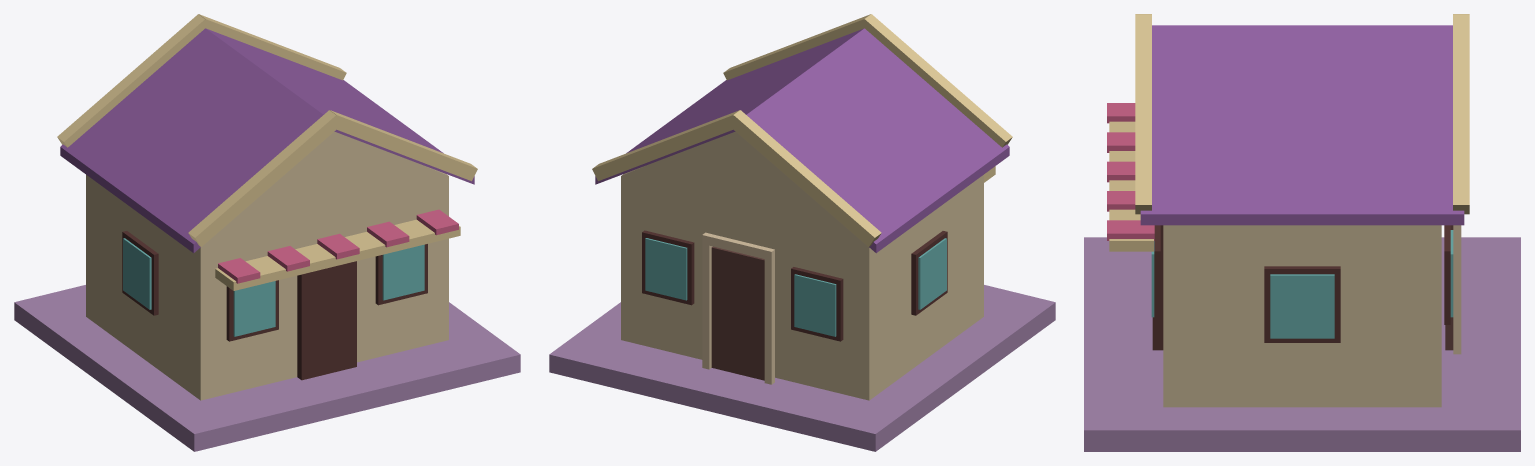
File: Candyland_SweetShop_Simple.glb
The picture shows the model from 3 angles, left to right: view 1: azimuth 30°, elevation 25°; view 2: azimuth 150°, elevation 25°; view 3: azimuth 270°, elevation 25°; orthographic projection. The views are drawn at different scales.
Parts seen in each view (by area): view 1: Candyland_SweetShop_Simple; view 2: Candyland_SweetShop_Simple; view 3: Candyland_SweetShop_Simple.
Boxes of the visible parts, <box> form: Candyland_SweetShop_Simple: <box>14,14,520,451</box>; Candyland_SweetShop_Simple: <box>549,14,1055,451</box>; Candyland_SweetShop_Simple: <box>1084,14,1520,451</box>.
Bounding box in the file's own units: 4.6 × 3.79 × 4.4.
